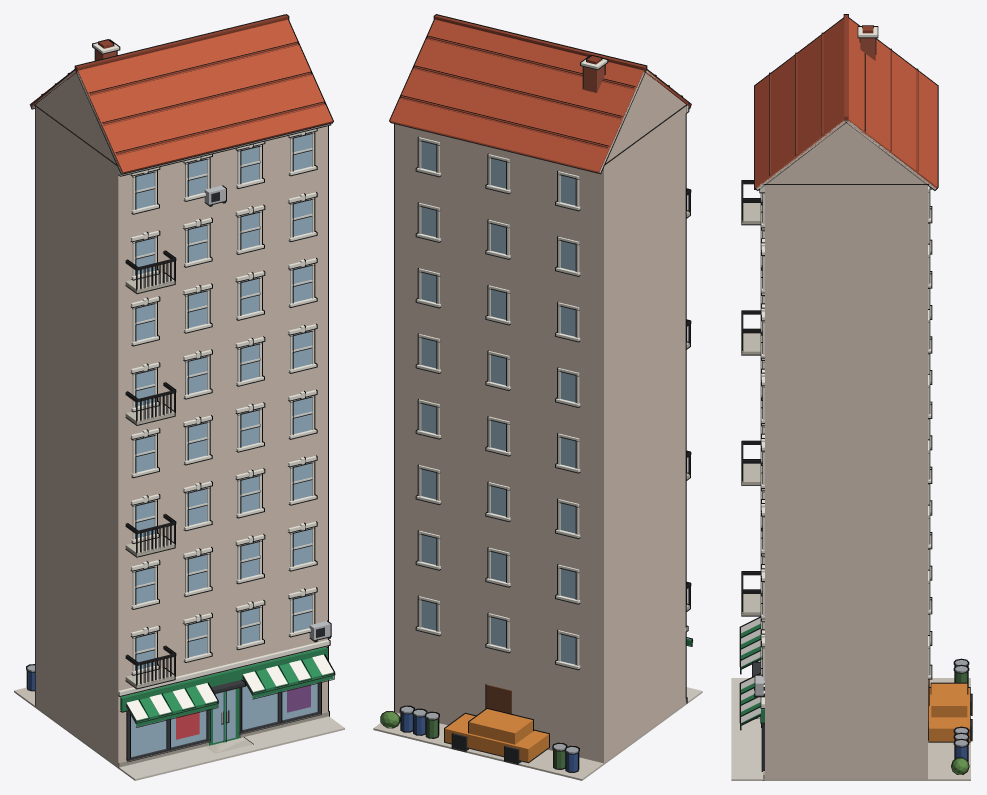
Rendered from Blok_duz_9k_3.fbx.
The picture shows the model from 3 angles, left to right: view 1: azimuth 30°, elevation 25°; view 2: azimuth 150°, elevation 25°; view 3: azimuth 270°, elevation 25°; orthographic projection.
Parts seen in each view (by area): view 1: Blok_duz_9k_3; view 2: Blok_duz_9k_3; view 3: Blok_duz_9k_3.
Boxes of the visible parts, x1,y1,x2,y2 form: Blok_duz_9k_3: (14,14,344,780); Blok_duz_9k_3: (373,14,702,780); Blok_duz_9k_3: (731,14,972,780).
Bounding box in the file's own units: 10.14 × 30.96 × 10.07.
